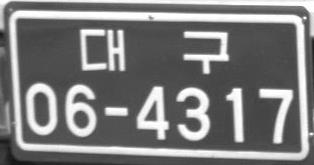0: (24, 81, 58, 135)
1: (221, 86, 252, 142)
3: (176, 86, 211, 141)
4: (137, 84, 169, 139)
6: (65, 83, 96, 137)
7: (258, 87, 293, 144)
대구_D: (80, 28, 229, 75)
